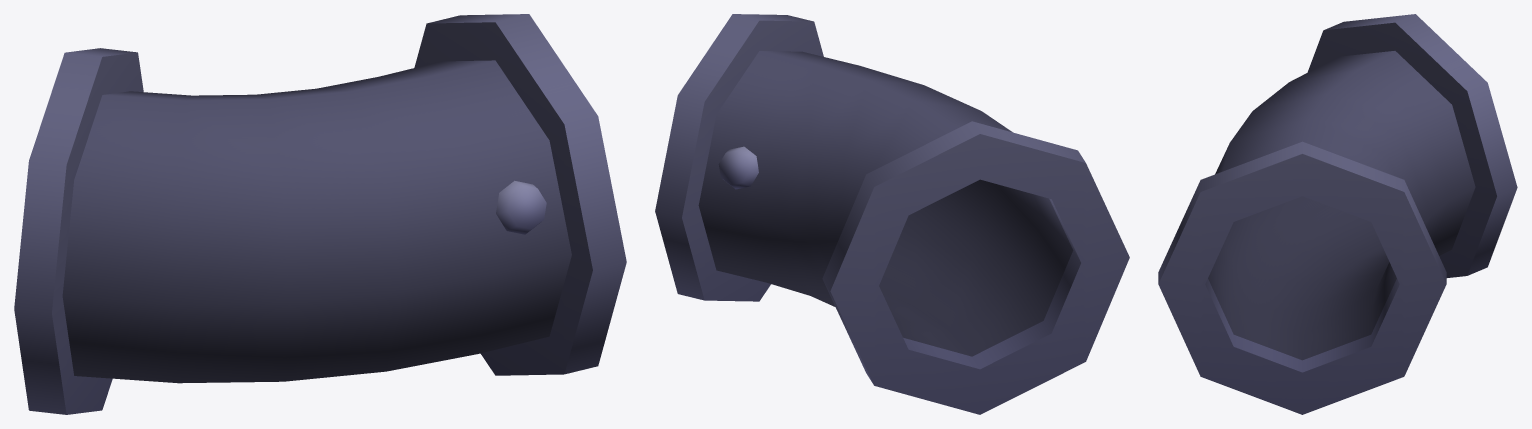
File: pipe-large-curve.glb
The picture shows the model from 3 angles, left to right: view 1: azimuth 30°, elevation 25°; view 2: azimuth 150°, elevation 25°; view 3: azimuth 270°, elevation 25°; orthographic projection. The views are drawn at different scales.
Visible parts, largest first — view 1: pipe-large-curve; view 2: pipe-large-curve; view 3: pipe-large-curve.
Boxes of the visible parts, bbox=[...] form: pipe-large-curve: bbox=[14, 14, 626, 414]; pipe-large-curve: bbox=[655, 14, 1129, 414]; pipe-large-curve: bbox=[1158, 14, 1517, 414].
Size of the model in its own units: 1.5 by 1 by 1.25.
